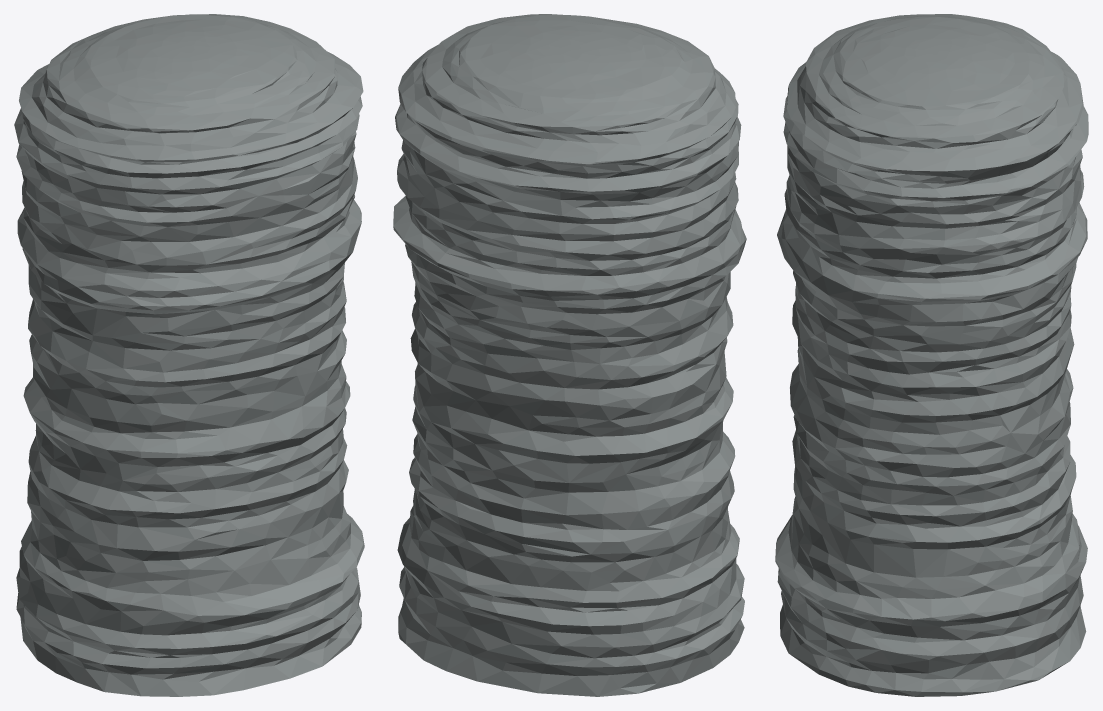
Rendered from mesh_rock_huge_02.fbx.
3 views of the same model, side by side, from view 1: azimuth 30°, elevation 25°; view 2: azimuth 150°, elevation 25°; view 3: azimuth 270°, elevation 25° (orthographic).
Parts seen in each view (by area): view 1: mesh_rock_huge_02_LOD0; view 2: mesh_rock_huge_02_LOD0; view 3: mesh_rock_huge_02_LOD0.
Boxes of the visible parts, box(x1,y1,x2,y2) form: mesh_rock_huge_02_LOD0: box(14, 14, 364, 696); mesh_rock_huge_02_LOD0: box(393, 14, 746, 696); mesh_rock_huge_02_LOD0: box(775, 14, 1088, 696).
Size of what is drawn, in the model's own units: 4.08 by 7.36 by 3.66.
